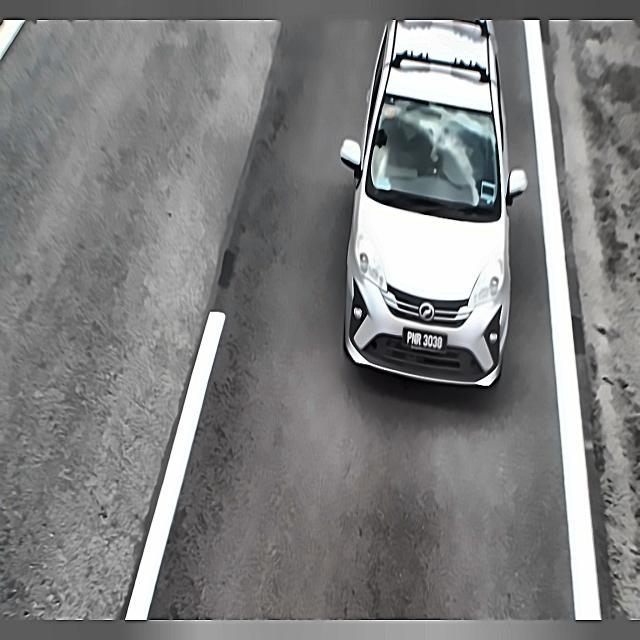car: (403, 323, 448, 359)
